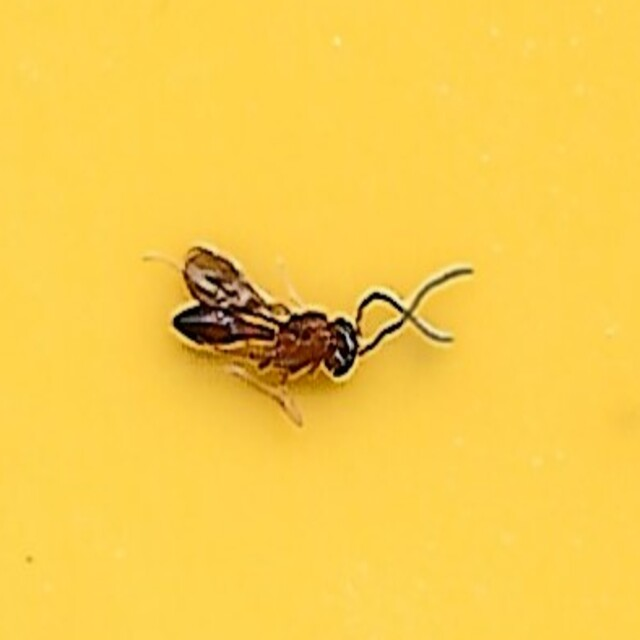Hymenoptera: (162, 229, 478, 411)
